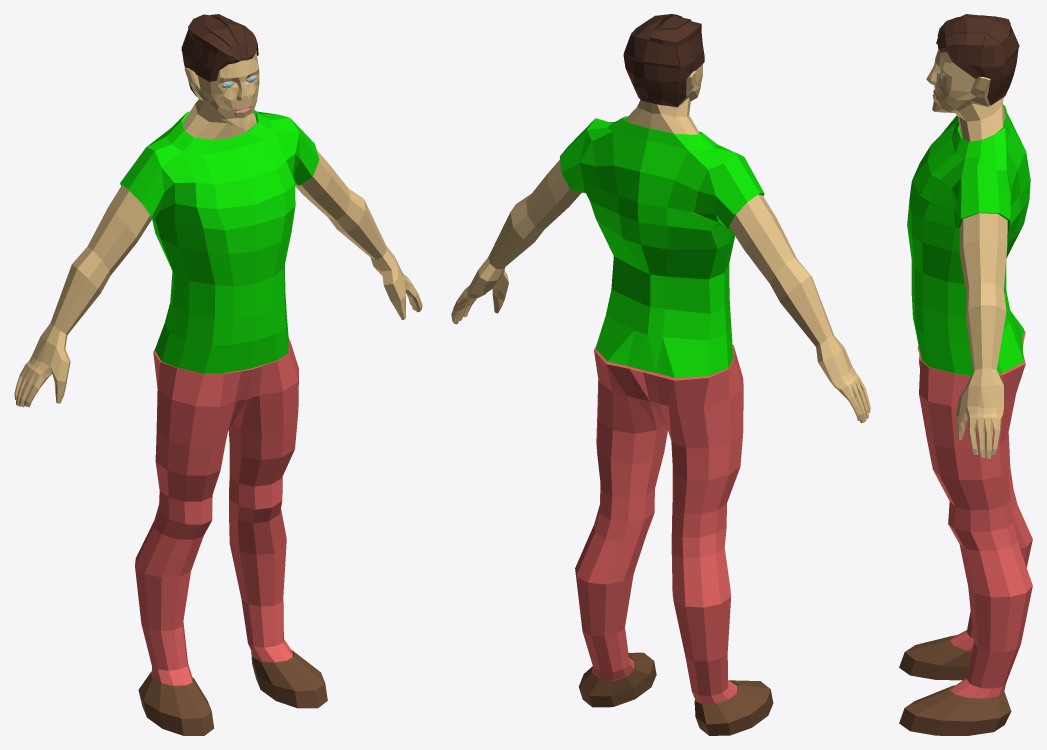
The model's file is DadLowPoly.fbx.
The picture shows the model from 3 angles, left to right: view 1: azimuth 30°, elevation 25°; view 2: azimuth 150°, elevation 25°; view 3: azimuth 270°, elevation 25°; orthographic projection. The views are drawn at different scales.
Parts seen in each view (by area): view 1: Pants, T-Shirt, Character, Shoes, Hair; view 2: Pants, T-Shirt, Character, Hair, Shoes; view 3: Pants, T-Shirt, Character, Shoes, Hair.
Boxes of the visible parts, left/top/right/bottom form: Pants: left=135, top=338, right=298, bottom=685; T-Shirt: left=120, top=110, right=319, bottom=373; Character: left=14, top=50, right=422, bottom=407; Shoes: left=138, top=649, right=327, bottom=735; Hair: left=181, top=14, right=258, bottom=96; Pants: left=575, top=345, right=743, bottom=704; T-Shirt: left=559, top=116, right=764, bottom=377; Character: left=451, top=64, right=870, bottom=423; Hair: left=623, top=14, right=704, bottom=106; Shoes: left=579, top=652, right=773, bottom=735; Pants: left=917, top=330, right=1032, bottom=698; T-Shirt: left=907, top=105, right=1030, bottom=375; Character: left=926, top=49, right=1007, bottom=458; Shoes: left=899, top=634, right=1011, bottom=735; Hair: left=936, top=14, right=1019, bottom=105.
Size of the model in its own units: 345 by 556 by 99.11.
